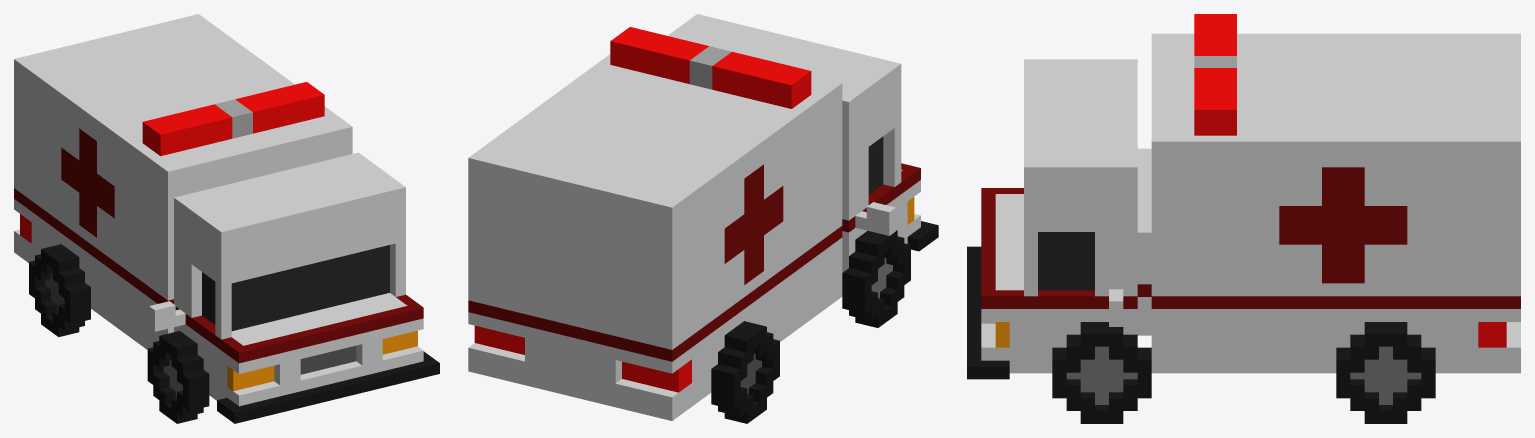
File: whitetruckassets.vox.obj
The picture shows the model from 3 angles, left to right: view 1: azimuth 30°, elevation 25°; view 2: azimuth 150°, elevation 25°; view 3: azimuth 270°, elevation 25°; orthographic projection. The views are drawn at different scales.
Size of the model in its own units: 2.4 by 2.3 by 3.9.
Materials: 1 (1 with a texture image).
